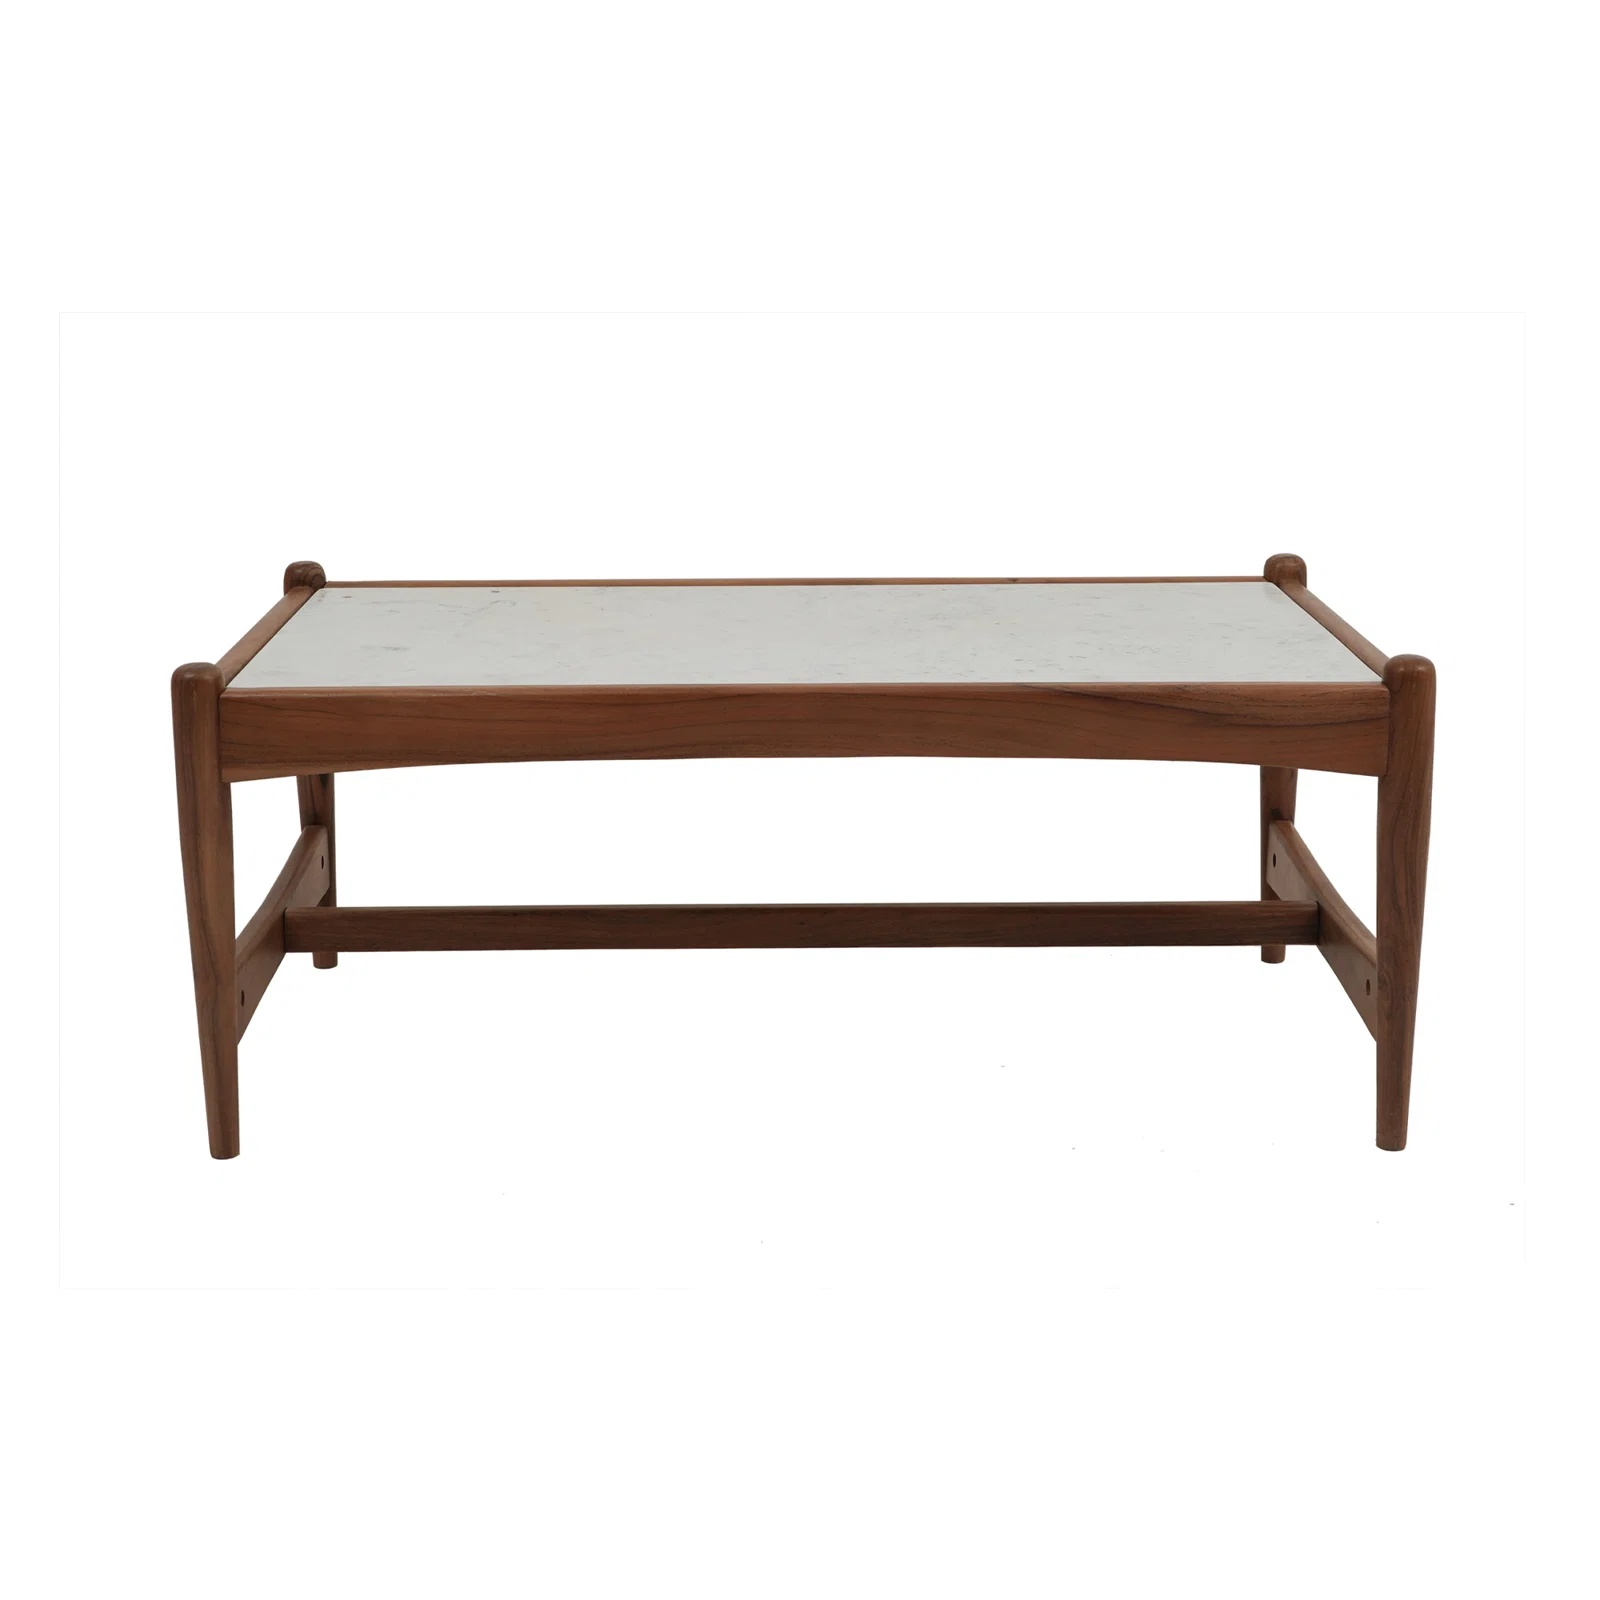obstacle: (171, 554, 1434, 1158)
